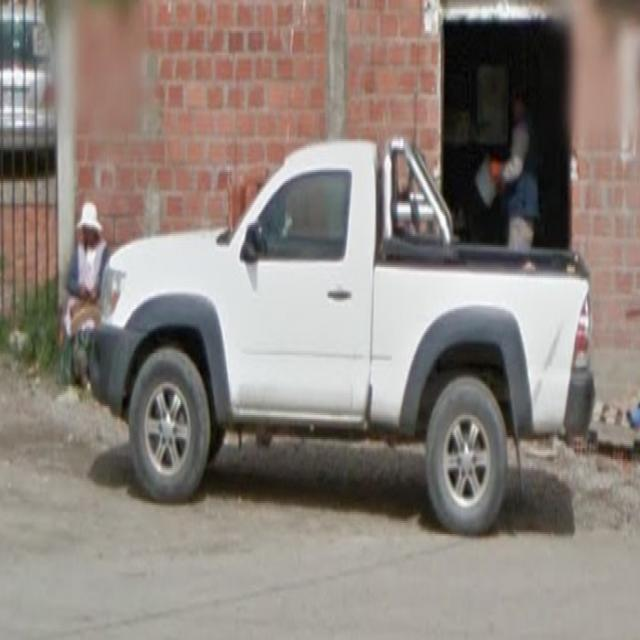cars: (98, 134, 598, 544)
